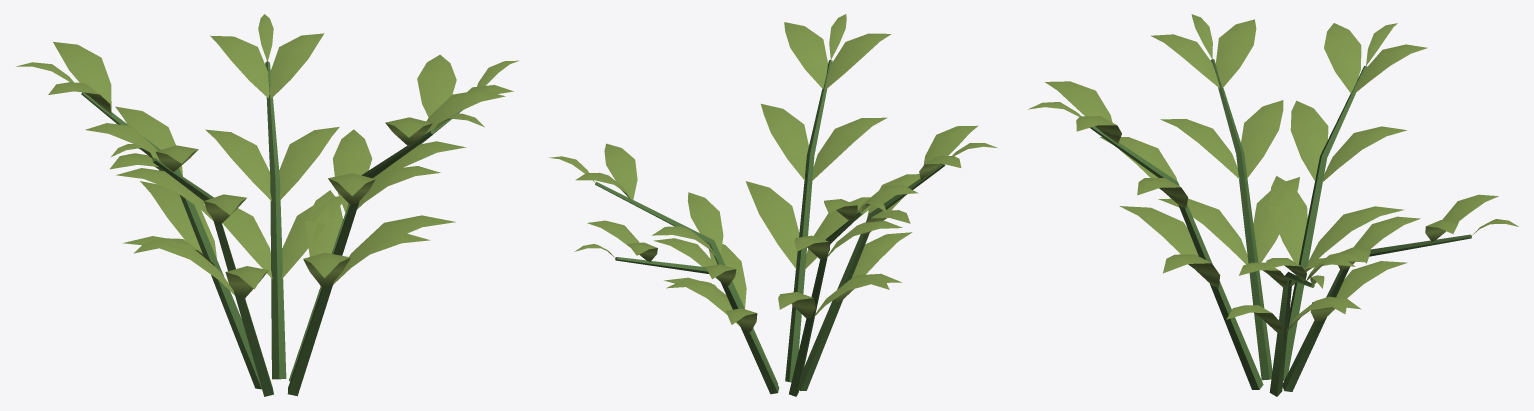
Rendered from crop_carrot_growing.glb.
3 views of the same model, side by side, from view 1: azimuth 30°, elevation 25°; view 2: azimuth 150°, elevation 25°; view 3: azimuth 270°, elevation 25° (orthographic). The views are drawn at different scales.
Parts seen in each view (by area): view 1: carrot_frond_0_p_0_1, carrot_frond_0_rachis; view 2: carrot_frond_0_p_0_1, carrot_frond_0_rachis; view 3: carrot_frond_0_p_0_1, carrot_frond_0_rachis.
Part boxes in pixels (box(x1,y1,x2,y2)): carrot_frond_0_p_0_1: box(16, 14, 518, 298); carrot_frond_0_rachis: box(81, 61, 462, 396); carrot_frond_0_p_0_1: box(549, 14, 998, 332); carrot_frond_0_rachis: box(595, 60, 945, 396); carrot_frond_0_p_0_1: box(1027, 14, 1518, 332); carrot_frond_0_rachis: box(1090, 59, 1471, 396).
Size of the model in its own units: 0.4661 by 0.324 by 0.4659.
